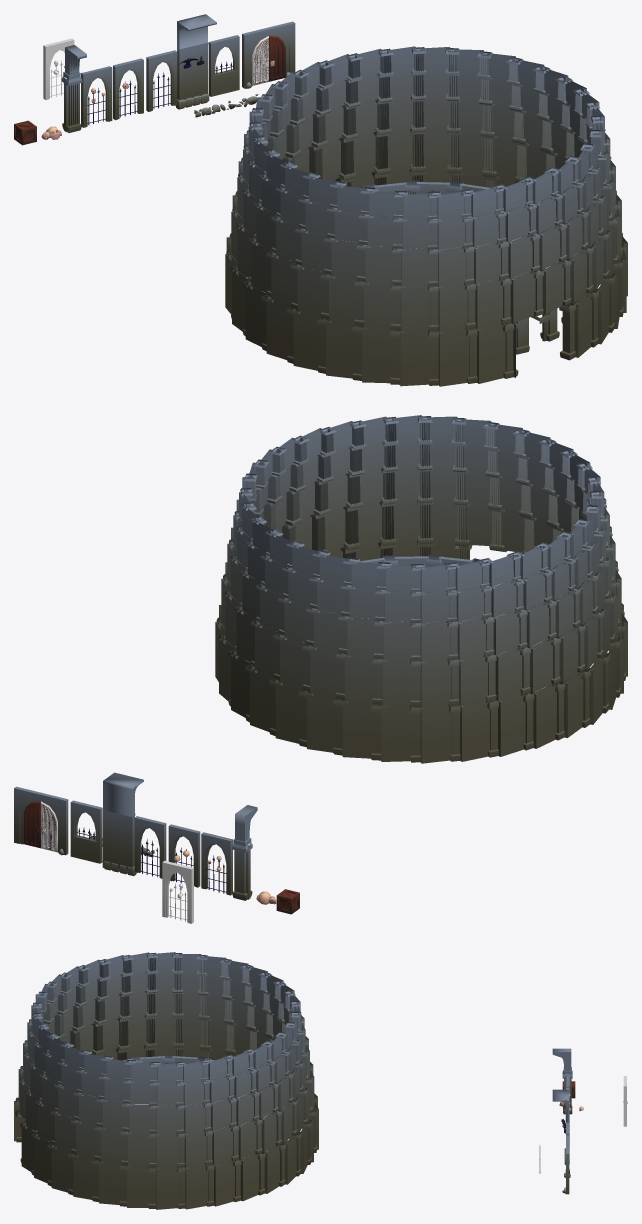
File: WRLD_BLEND_ASSET_KIT_V2.fbx
3 views of the same model, one above another, from view 1: azimuth 30°, elevation 25°; view 2: azimuth 150°, elevation 25°; view 3: azimuth 270°, elevation 25° (orthographic). The views are drawn at different scales.
Parts seen in each view (by area): view 1: Cube.025, Cube.024, Cube.007, Cylinder.003, Cube.001, Cube.020, Cube.003, Cube.022, Cube.002, Cube.005, Cube.008, Cube.013 (+2 smaller); view 2: Cube.025, Cube.001, Cube.007, Cylinder.003, Cube.022, Cube.005, Cube.020, Cube.003, Cube.002, Cube.024, Cube.008, Cube.013 (+1 smaller); view 3: Cube.025, Cube.024.
Part boxes in pixels (x1=…): Cube.025: x1=225, y1=46, x2=627, y2=386; Cube.024: x1=320, y1=180, x2=582, y2=354; Cube.007: x1=242, y1=21, x2=295, y2=88; Cylinder.003: x1=208, y1=35, x2=239, y2=96; Cube.001: x1=177, y1=45, x2=207, y2=100; Cube.020: x1=146, y1=50, x2=177, y2=111; Cube.003: x1=81, y1=66, x2=112, y2=127; Cube.022: x1=177, y1=14, x2=216, y2=51; Cube.002: x1=113, y1=58, x2=143, y2=120; Cube.005: x1=43, y1=38, x2=74, y2=99; Cube.008: x1=269, y1=35, x2=285, y2=81; Cube.013: x1=252, y1=36, x2=268, y2=85; Cube.025: x1=215, y1=415, x2=627, y2=763; Cube.001: x1=103, y1=810, x2=134, y2=870; Cube.007: x1=14, y1=786, x2=68, y2=855; Cylinder.003: x1=70, y1=800, x2=102, y2=863; Cube.022: x1=103, y1=772, x2=143, y2=817; Cube.005: x1=162, y1=860, x2=193, y2=923; Cube.020: x1=134, y1=816, x2=166, y2=878; Cube.003: x1=201, y1=832, x2=232, y2=895; Cube.002: x1=168, y1=824, x2=200, y2=887; Cube.024: x1=337, y1=554, x2=573, y2=680; Cube.008: x1=23, y1=801, x2=40, y2=848; Cube.013: x1=40, y1=801, x2=57, y2=852; Cube.025: x1=14, y1=952, x2=318, y2=1209; Cube.024: x1=50, y1=1054, x2=287, y2=1150.
Bounding box in the file's own units: 2059 × 1041 × 4145.
